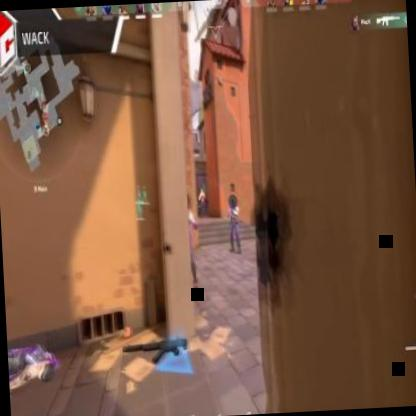enemy: (176, 188, 198, 292), (224, 193, 242, 252), (196, 186, 206, 218)
enemy_head: (178, 192, 190, 212), (228, 196, 235, 208), (200, 186, 204, 192)
